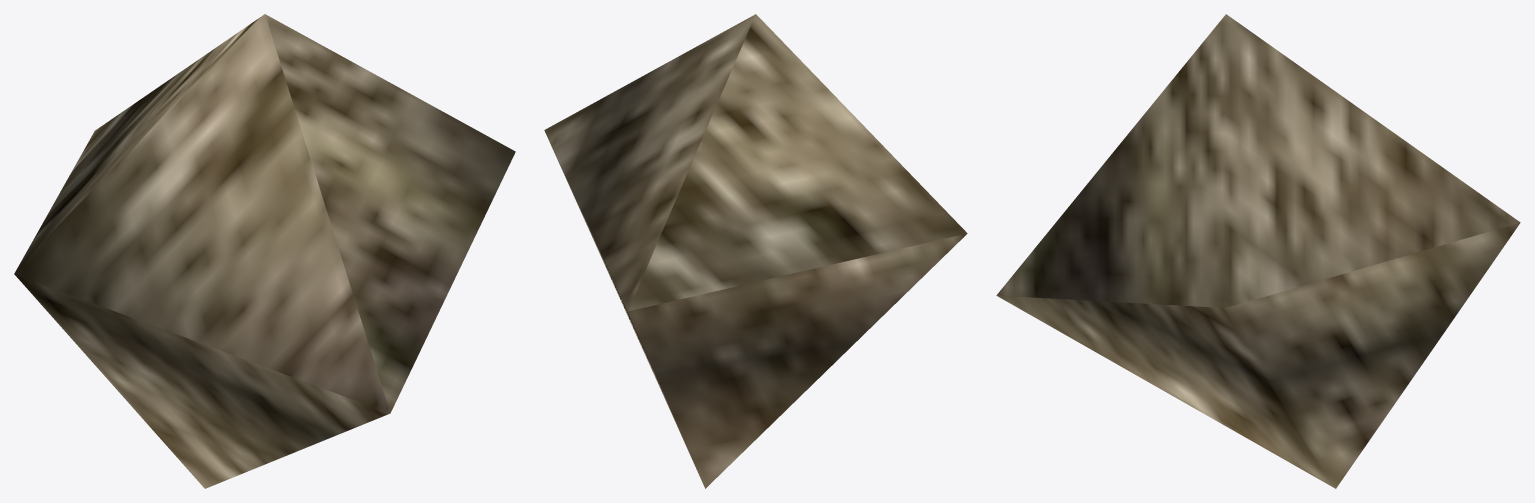
File: DungeonStone01.glb
3 views of the same model, side by side, from view 1: azimuth 30°, elevation 25°; view 2: azimuth 150°, elevation 25°; view 3: azimuth 270°, elevation 25° (orthographic). The views are drawn at different scales.
Visible parts, largest first — view 1: model_DungeonStone01; view 2: model_DungeonStone01; view 3: model_DungeonStone01.
Part boxes in pixels (bbox=[...]): model_DungeonStone01: bbox=[14, 14, 515, 488]; model_DungeonStone01: bbox=[544, 14, 967, 488]; model_DungeonStone01: bbox=[996, 14, 1520, 488].
Bounding box in the file's own units: 0.0585 × 0.0578 × 0.0578.
1 material, 1 textured.
